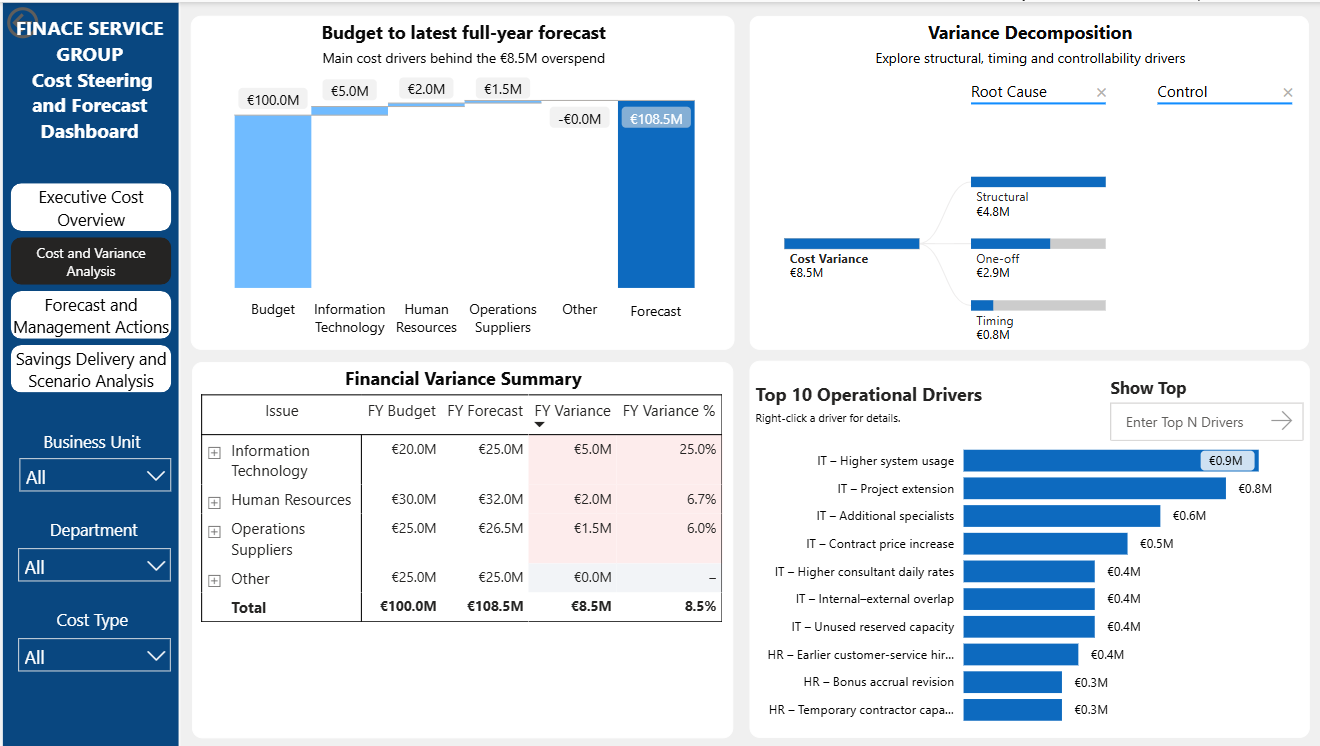

The dashboard page shown, as its layout file describes it:
{"tool":"powerbi","page":{"name":"Cost and Variance Analysis","canvas":[1280,720],"ordinal":1},"visuals":[{"type":"shape","box":[0,0,171.9,720],"z":0},{"type":"pageNavigator","box":[8.6,175.1,155,205.2],"z":1000},{"type":"clusteredBarChart","fields":{"Category":["OperationalDriverAnalysisTable.Driver Display Short"],"Y":["_Measures.Driver Variance (€m)"]},"box":[721.5,346.2,540.5,364.3],"z":2000},{"type":"group","id":"g1","title":"Group 1","box":[182.7,13.5,525.1,322.1],"z":3000},{"type":"group","id":"g2","title":"Group 1","box":[721.5,13.3,540.5,323.3],"z":4000},{"type":"group","id":"g3","title":"Group 1","box":[183.4,347.5,522.4,363.1],"z":5000},{"type":"group","id":"g4","title":"Group 1","box":[8.4,405.8,160.5,249.5],"z":6000},{"type":"actionButton","box":[0,0,100,40],"z":7000},{"type":"decompositionTreeVisual","title":"Variance Decomposition","fields":{"Analyze":["_Measures.Cost Variance (€m)"],"ExplainBy":["CostItemMasterTable.Root_Cause_Class","CostItemMasterTable.Controllability","CostItemMasterTable.Issue_Group","CostItemMasterTable.Department","CostItemMasterTable.Cost_Subcategory"]},"box":[721.5,13.3,540.3,322.7],"z":7000,"group":"g2"},{"type":"waterfallChart","title":"Budget to latest full-year forecast","fields":{"Category":["Cost Bridge.Bridge Item"],"Y":["_Measures.Cost Bridge Value (€m)"]},"box":[182.7,13.5,525.1,322.1],"z":7000,"group":"g1"},{"type":"pivotTable","title":"Financial Variance Summary","fields":{"Rows":["CostItemMasterTable.Issue_Group","CostItemMasterTable.Department","CostItemMasterTable.Cost_Subcategory"],"Values":["_Measures.Full-Year Budget (€m)","_Measures.Full-Year Forecast","_Measures.Cost Variance (€m)","_Measures.Cost Variance %"]},"box":[183.4,347.5,522.4,363.1],"z":7000,"group":"g3"},{"type":"textSlicer","title":"Show Top","fields":{"Values":["Top N Drivers.Top N Drivers"]},"box":[1064.1,359.5,197.9,65.1],"z":8000},{"type":"textbox","box":[0,7.2,169.4,147.8],"z":9000},{"type":"textbox","box":[8.4,405.8,157,40],"z":13000,"group":"g4"},{"type":"slicer","fields":{"Values":["CostItemMasterTable.Brand"]},"box":[11.5,436.3,156.1,46.6],"z":14000,"group":"g4"},{"type":"textbox","box":[11.5,491.7,157.4,40.3],"z":15000,"group":"g4"},{"type":"slicer","fields":{"Values":["CostItemMasterTable.Department"]},"box":[10.2,523.1,157.4,45.3],"z":16000,"group":"g4"},{"type":"textbox","box":[9,578.5,157.4,40.3],"z":17000,"group":"g4"},{"type":"slicer","fields":{"Values":["CostItemMasterTable.Cost_Nature"]},"box":[10.2,610,157.4,45.3],"z":18000,"group":"g4"},{"type":"textbox","box":[593.2,280.7,77.1,27.1],"z":18001,"group":"g1"}]}

Visuals, with their boxes on the page's 1280x720 design canvas (x1, y1, x2, y2). These are canvas units, not pixel positions in the 1320x746 screenshot, which may show the page scaled, cropped or inside an application window:
shape: (x1=0, y1=0, x2=172, y2=720)
pageNavigator: (x1=9, y1=175, x2=164, y2=380)
clusteredBarChart - OperationalDriverAnalysisTable.Driver Display Short x _Measures.Driver Variance (€m): (x1=722, y1=346, x2=1262, y2=710)
"Group 1" group: (x1=183, y1=14, x2=708, y2=336)
"Group 1" group: (x1=722, y1=13, x2=1262, y2=337)
"Group 1" group: (x1=183, y1=348, x2=706, y2=711)
"Group 1" group: (x1=8, y1=406, x2=169, y2=655)
actionButton: (x1=0, y1=0, x2=100, y2=40)
"Variance Decomposition" decompositionTreeVisual: (x1=722, y1=13, x2=1262, y2=336)
"Budget to latest full-year forecast" waterfallChart: (x1=183, y1=14, x2=708, y2=336)
"Financial Variance Summary" pivotTable: (x1=183, y1=348, x2=706, y2=711)
"Show Top" textSlicer: (x1=1064, y1=360, x2=1262, y2=425)
textbox: (x1=0, y1=7, x2=169, y2=155)
textbox: (x1=8, y1=406, x2=165, y2=446)
slicer - CostItemMasterTable.Brand: (x1=12, y1=436, x2=168, y2=483)
textbox: (x1=12, y1=492, x2=169, y2=532)
slicer - CostItemMasterTable.Department: (x1=10, y1=523, x2=168, y2=568)
textbox: (x1=9, y1=578, x2=166, y2=619)
slicer - CostItemMasterTable.Cost_Nature: (x1=10, y1=610, x2=168, y2=655)
textbox: (x1=593, y1=281, x2=670, y2=308)
